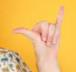clockwise: (9, 5, 67, 50)
